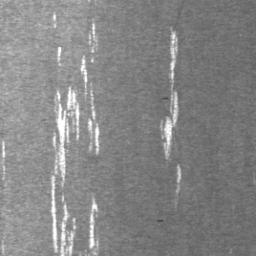White rust: (50, 86, 80, 256), (80, 55, 99, 155), (163, 91, 179, 159), (89, 197, 98, 249), (169, 32, 178, 82), (92, 22, 98, 42), (176, 165, 182, 183), (56, 47, 62, 63), (52, 12, 57, 28)
